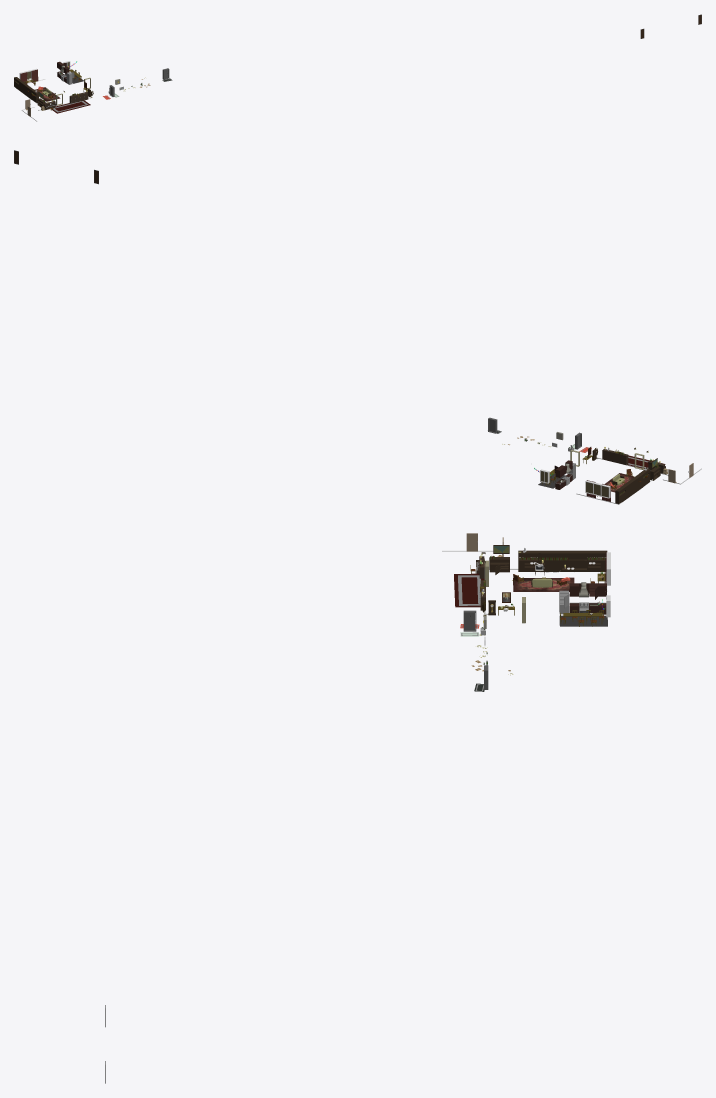
The model's file is SOvetka02part_PT3_objects.fbx.
The picture shows the model from 3 angles, top to bottom: view 1: azimuth 30°, elevation 25°; view 2: azimuth 150°, elevation 25°; view 3: azimuth 270°, elevation 25°; orthographic projection. The views are drawn at different scales.
Visible parts, largest first — view 1: Plane.027, Cube.026; view 2: no part large enough to name; view 3: Cube.026, Plane.027.
Boxes of the visible parts, x1=… form: Plane.027: x1=51, y1=100, x2=90, y2=113; Cube.026: x1=14, y1=77, x2=33, y2=99; Cube.026: x1=538, y1=550, x2=607, y2=571; Plane.027: x1=454, y1=573, x2=484, y2=607.
Bounding box in the file's own units: 11125 × 505 × 4194.
Materials: 121 (3 with a texture image).
